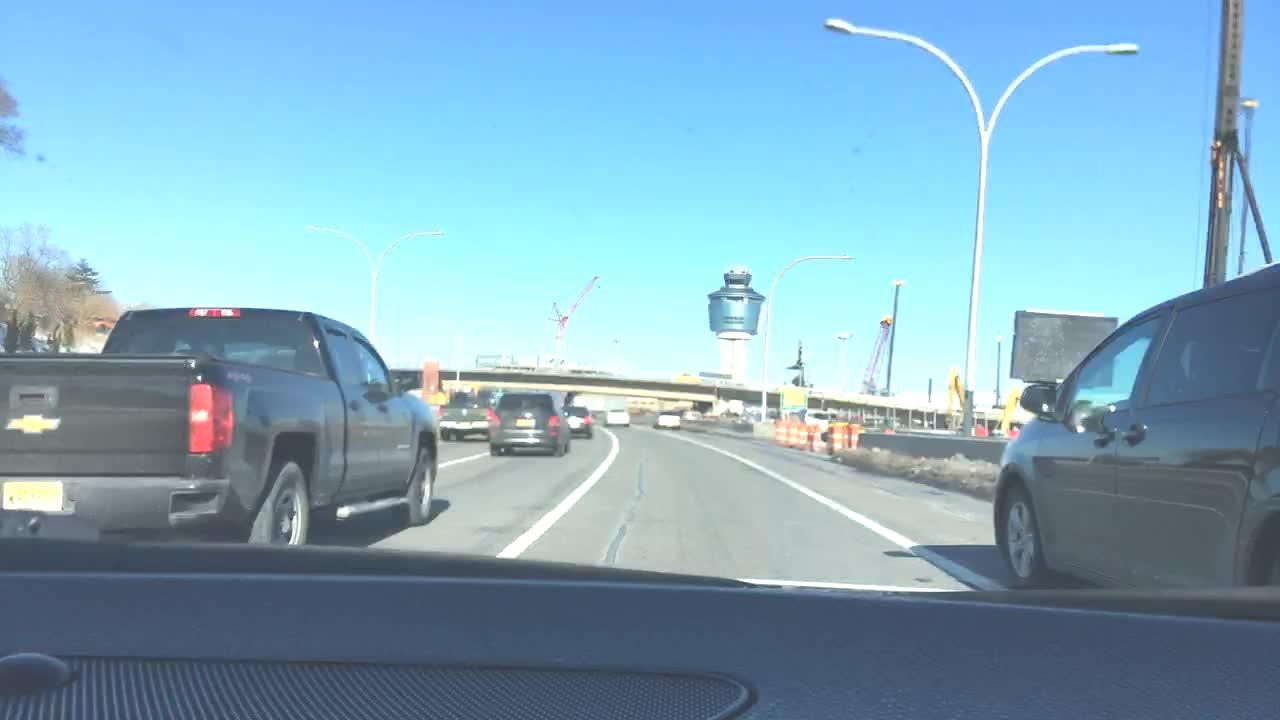chevrolet: (10, 412, 74, 438)
